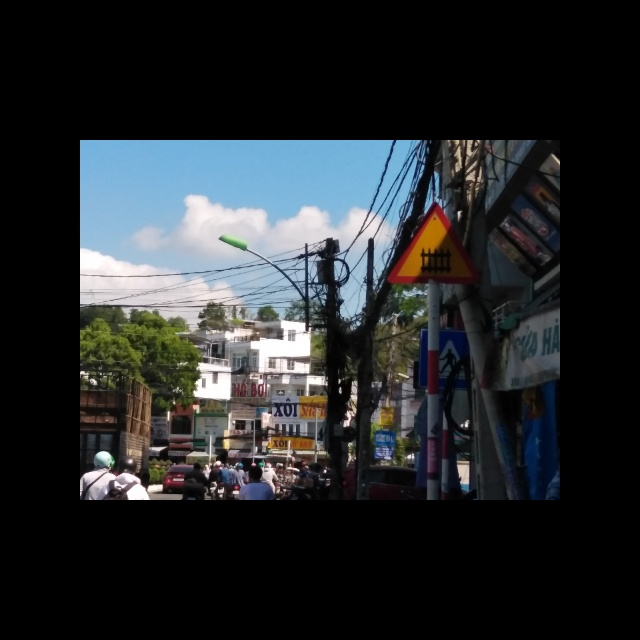Giao nhau với đường sắt có rào chắn: (386, 202, 479, 284)
